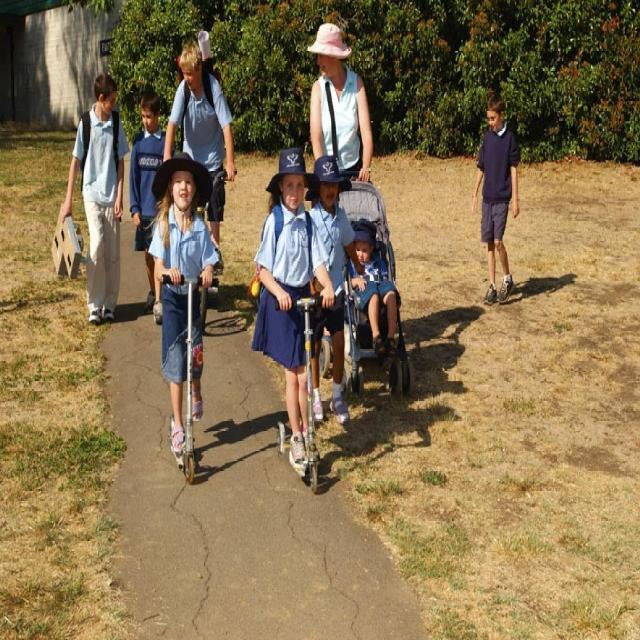body: (247, 142, 335, 474), (145, 146, 221, 461), (58, 70, 131, 328), (160, 40, 237, 277), (304, 153, 365, 427), (304, 21, 374, 201), (128, 86, 176, 324), (469, 89, 521, 308), (345, 216, 401, 361)
